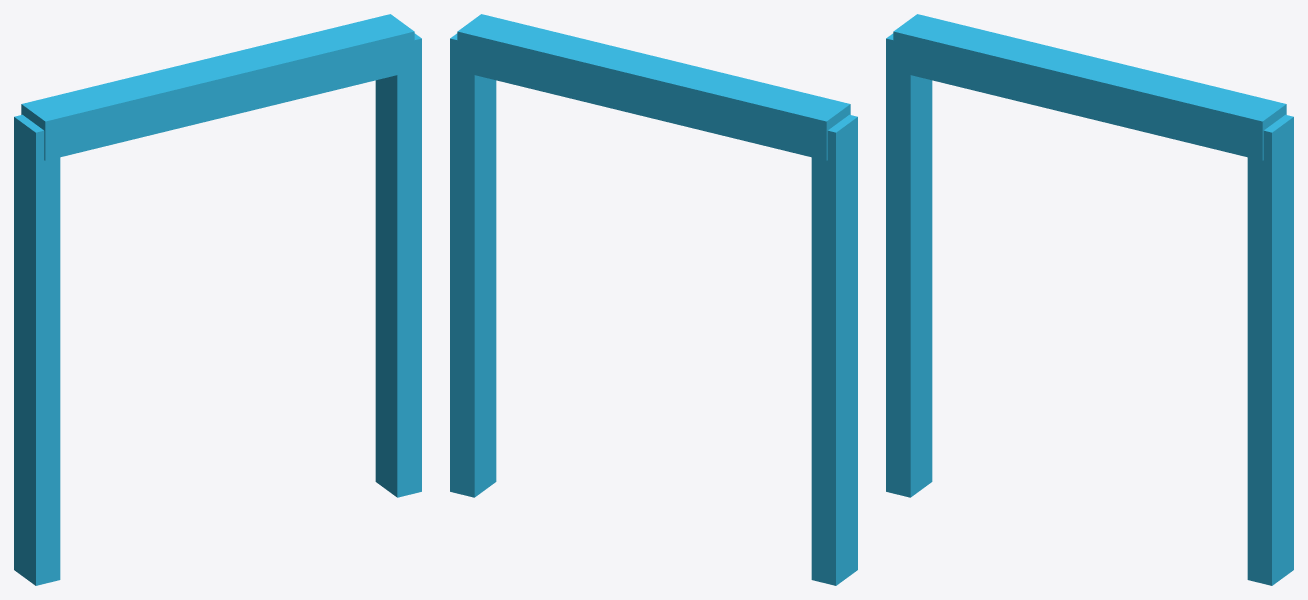
File: gate-blue.glb
3 views of the same model, side by side, from view 1: azimuth 30°, elevation 25°; view 2: azimuth 150°, elevation 25°; view 3: azimuth 330°, elevation 25° (orthographic).
Visible parts, largest first — view 1: gate-blue-2, gate-blue-0, gate-blue-1; view 2: gate-blue-2, gate-blue-0, gate-blue-1; view 3: gate-blue-2, gate-blue-1, gate-blue-0.
Boxes of the visible parts, x1,y1,x2,y2 form: gate-blue-2: [21, 14, 414, 160]; gate-blue-0: [14, 114, 60, 585]; gate-blue-1: [375, 33, 421, 497]; gate-blue-2: [457, 14, 850, 160]; gate-blue-0: [811, 114, 857, 585]; gate-blue-1: [450, 33, 496, 497]; gate-blue-2: [893, 14, 1286, 160]; gate-blue-1: [1247, 114, 1293, 585]; gate-blue-0: [886, 33, 932, 497].
Bounding box in the file's own units: 2.05 × 2.35 × 0.22.
